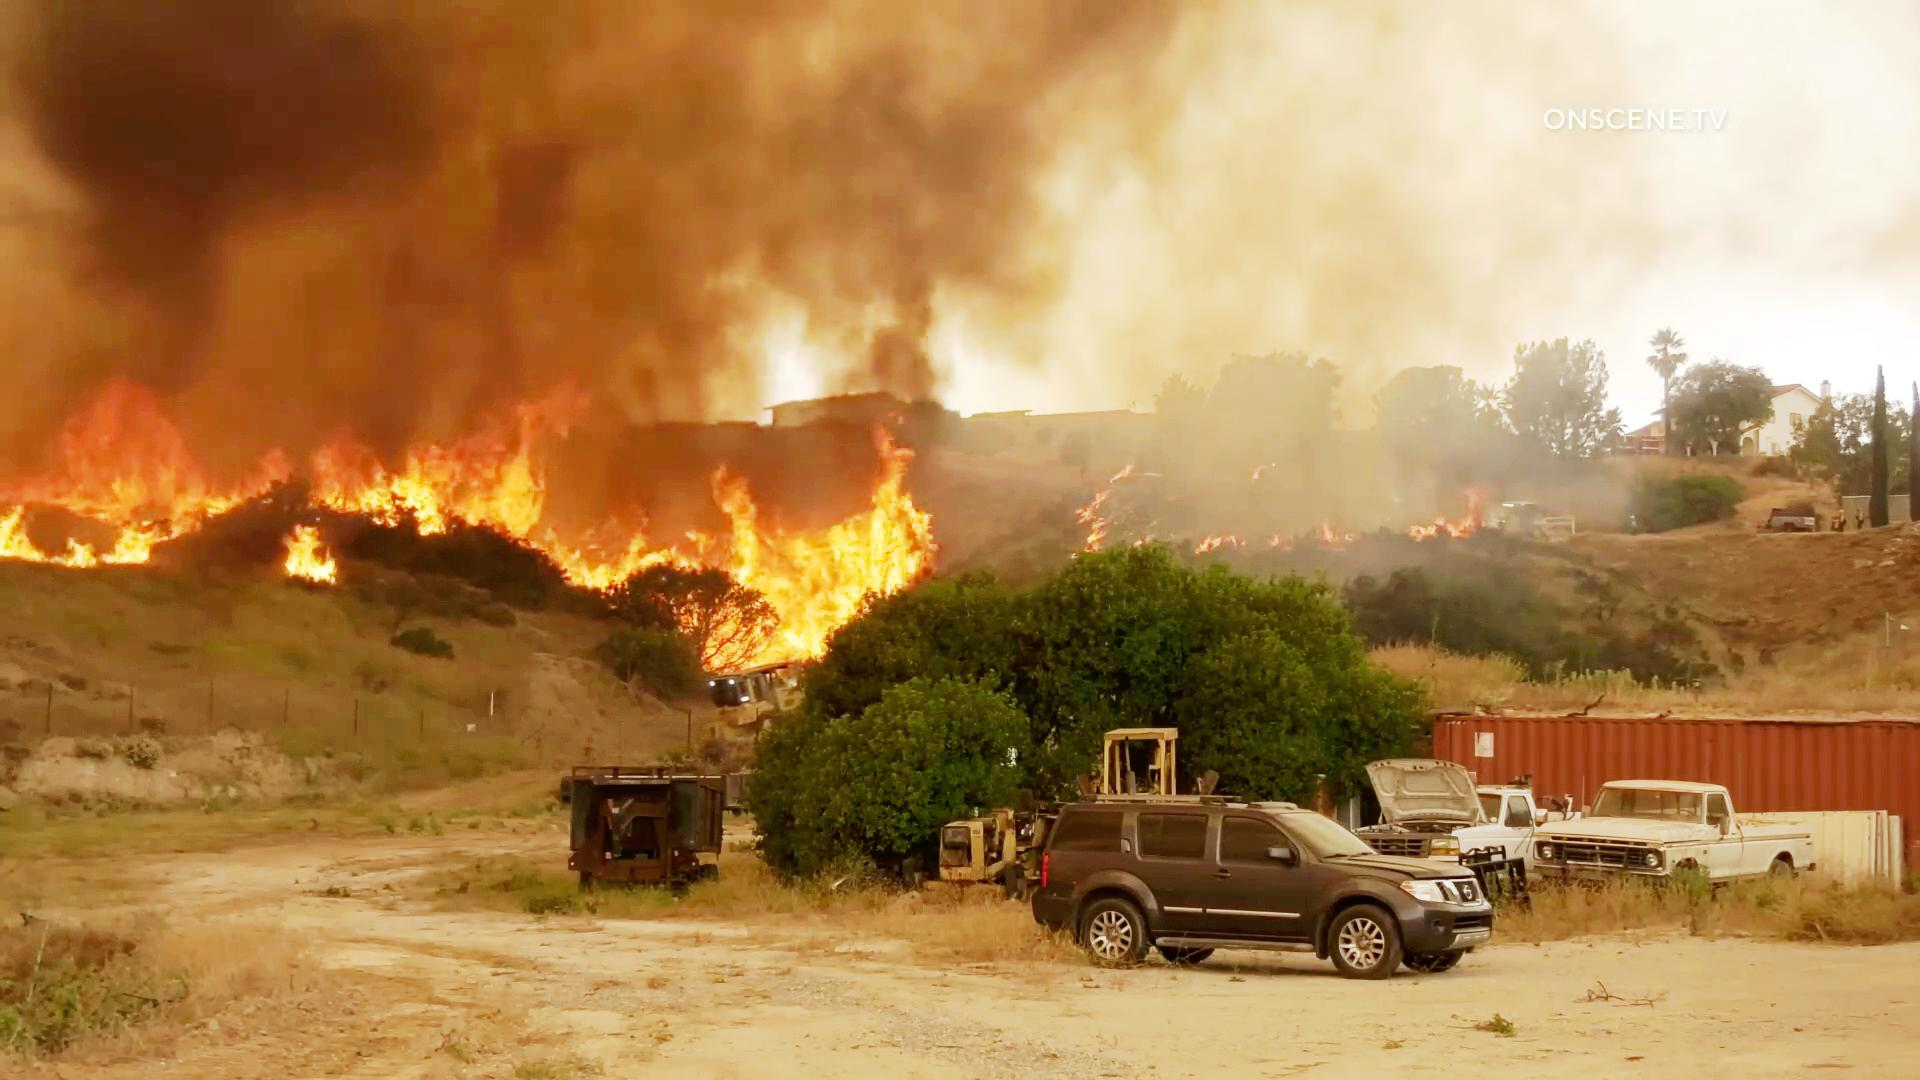fire: (676, 423, 910, 676), (41, 376, 273, 559), (326, 393, 585, 541)
smoke: (32, 25, 455, 355)
